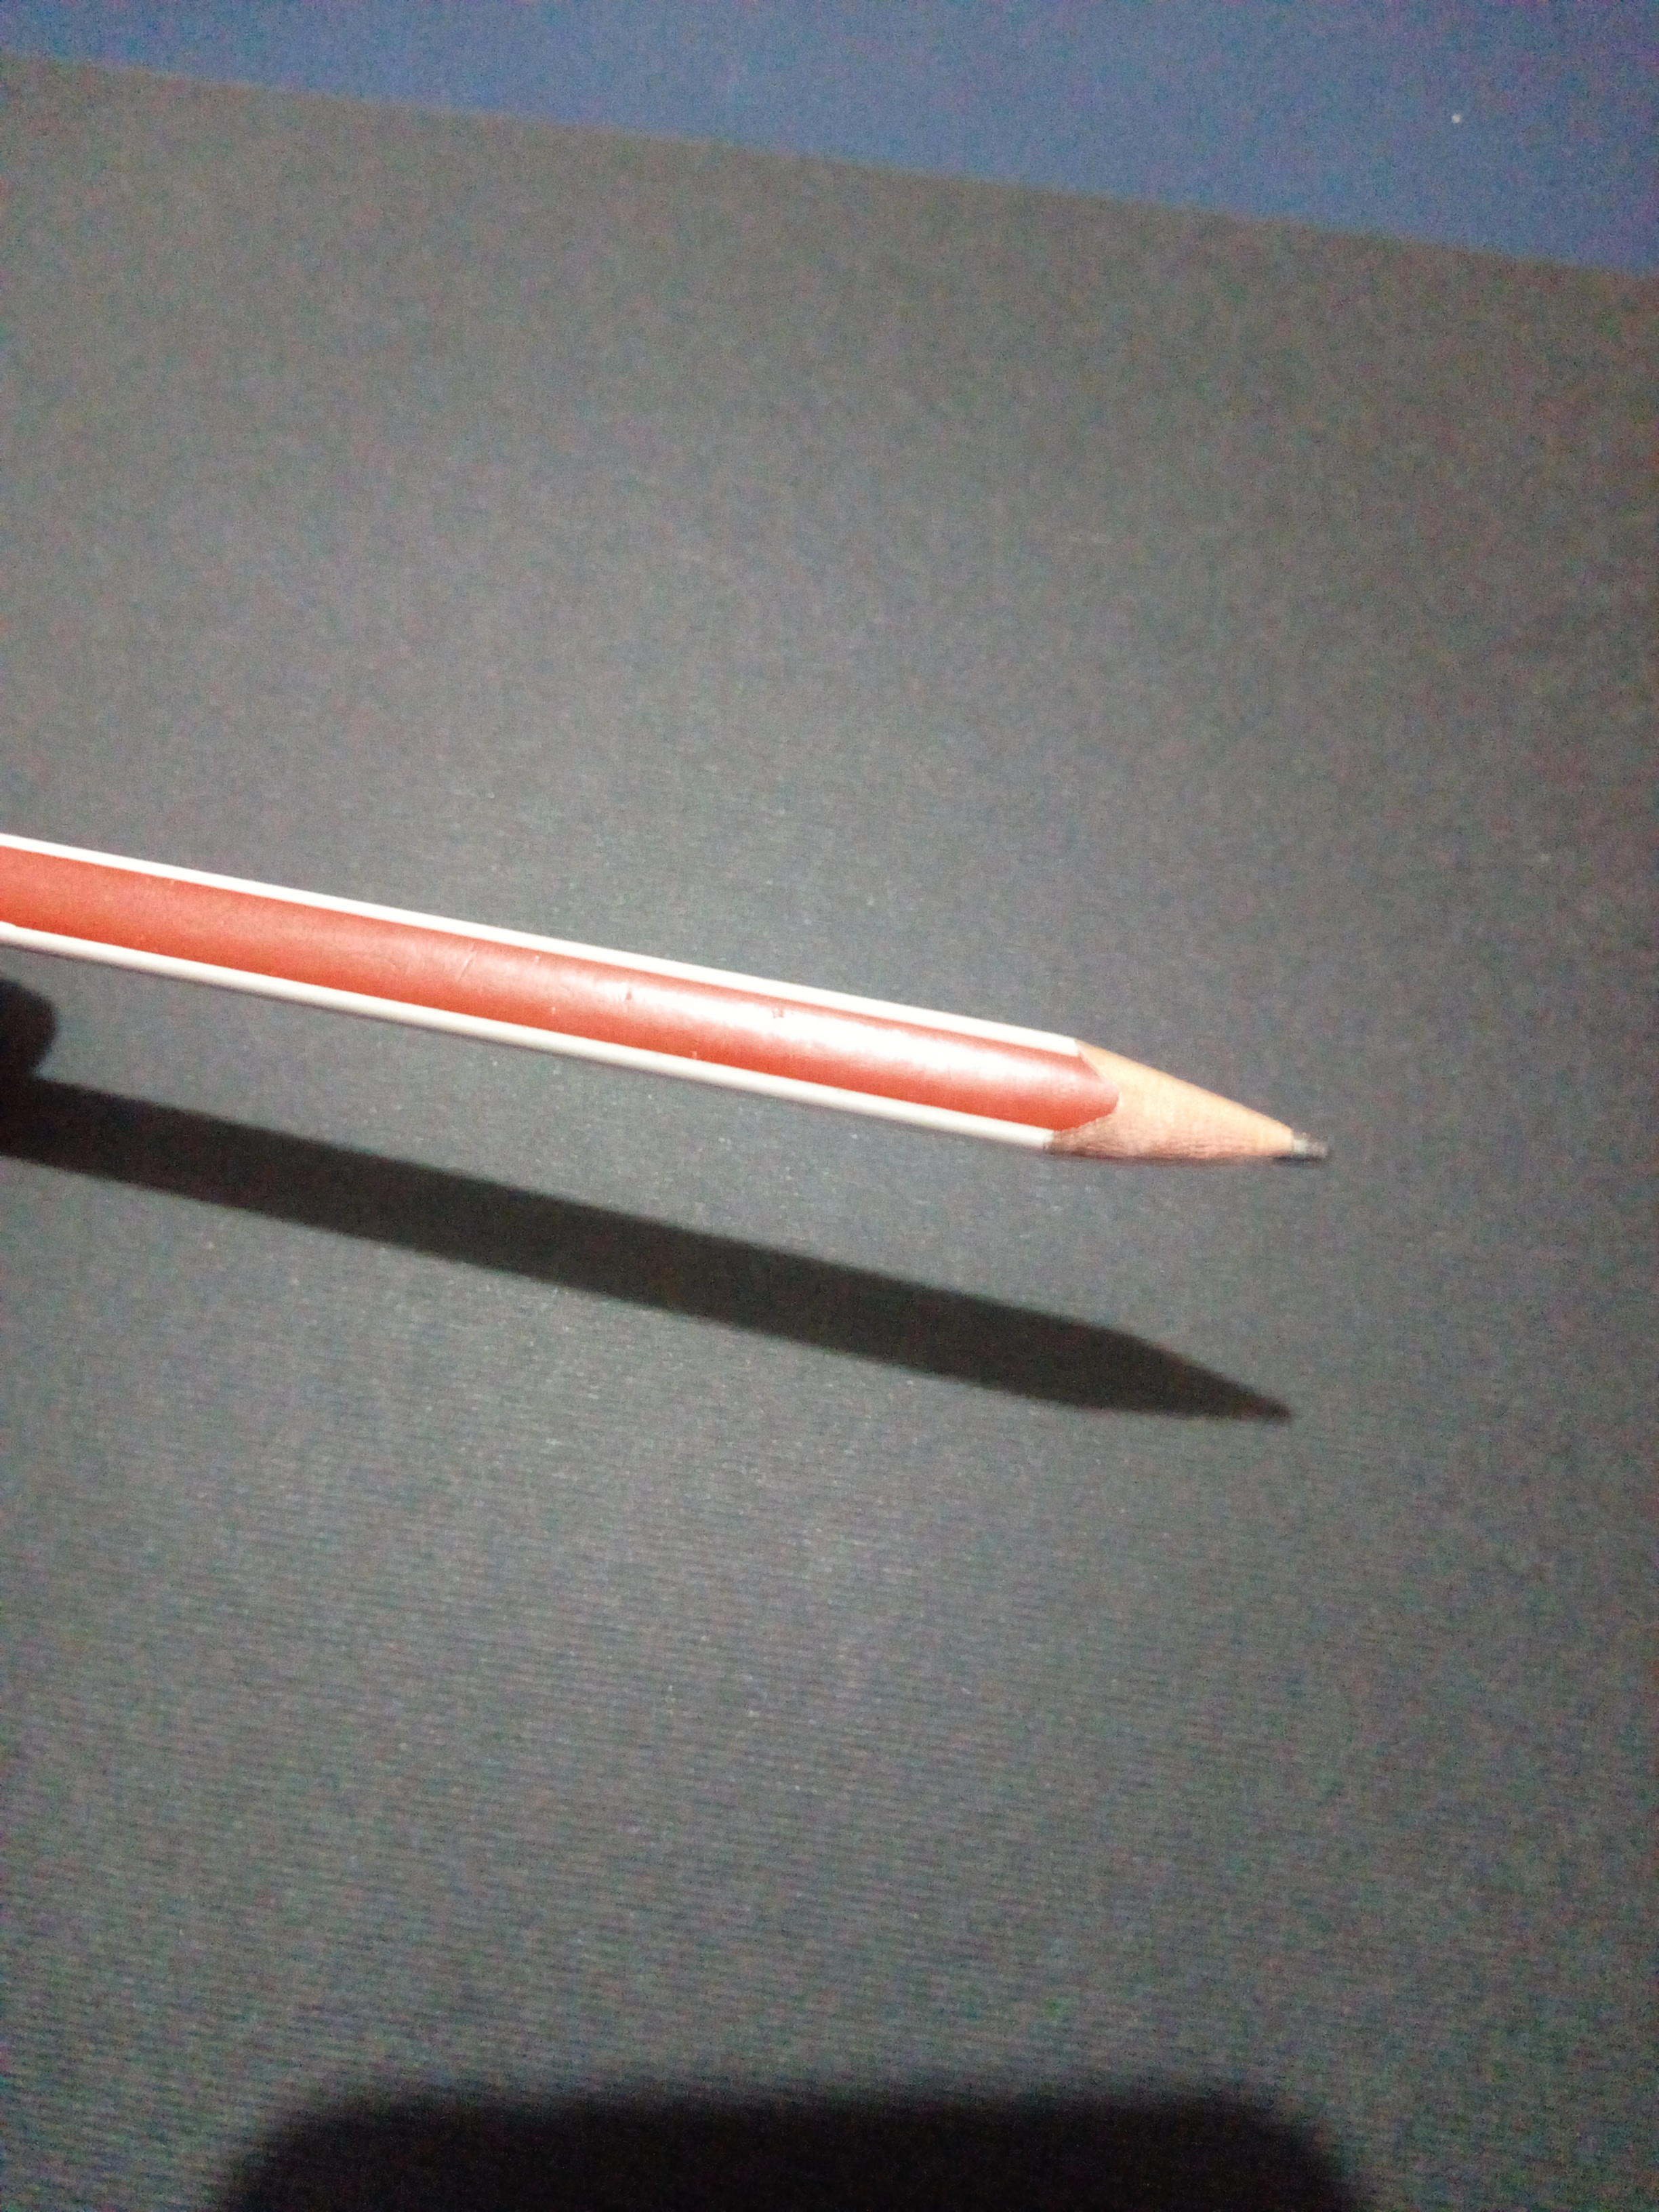pen_tip: (983, 946, 1425, 1284)
